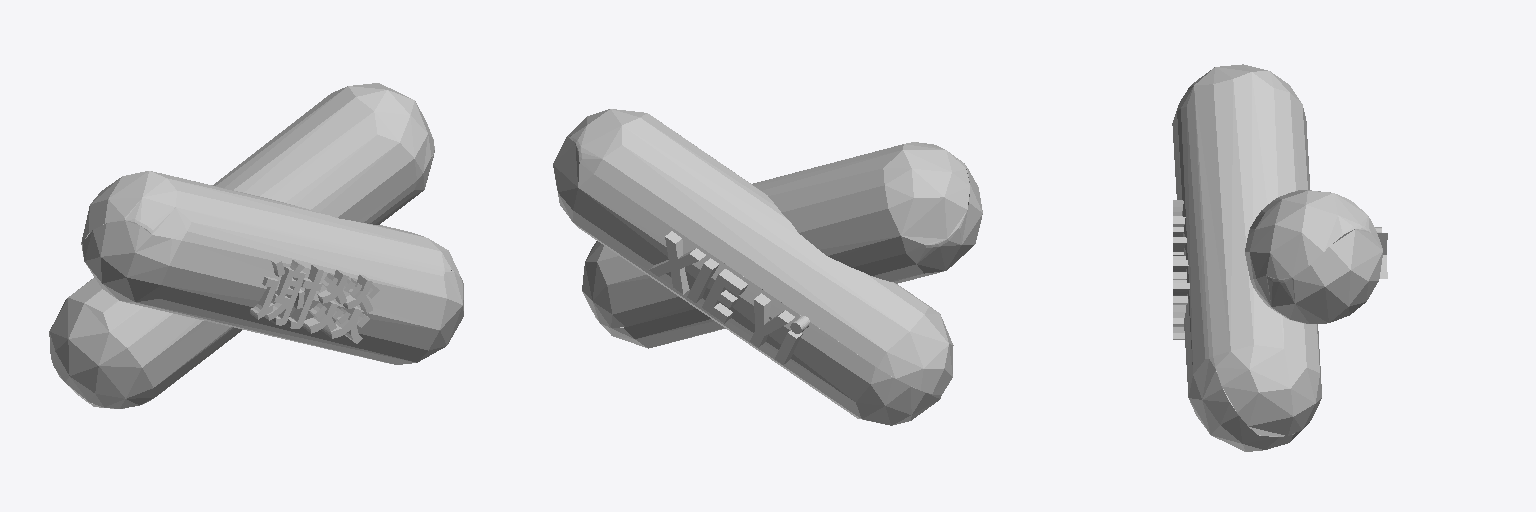
The model's file is XieYi.obj.
3 views of the same model, side by side, from view 1: azimuth 30°, elevation 25°; view 2: azimuth 150°, elevation 25°; view 3: azimuth 270°, elevation 25° (orthographic).
Parts seen in each view (by area): view 1: root_3, root_2, node_id779; view 2: root_2, root_3, node_id790; view 3: root_3, root_2, node_id779.
Boxes of the visible parts, x1=… form: root_3: x1=81, y1=171, x2=463, y2=364; root_2: x1=49, y1=83, x2=434, y2=408; node_id779: x1=250, y1=257, x2=379, y2=343; root_2: x1=553, y1=109, x2=953, y2=425; root_3: x1=582, y1=142, x2=982, y2=348; node_id790: x1=649, y1=231, x2=809, y2=364; root_3: x1=1172, y1=64, x2=1321, y2=451; root_2: x1=1245, y1=190, x2=1382, y2=323; node_id779: x1=1173, y1=200, x2=1189, y2=339.
Size of the model in its own units: 0.289 by 0.1836 by 0.143.